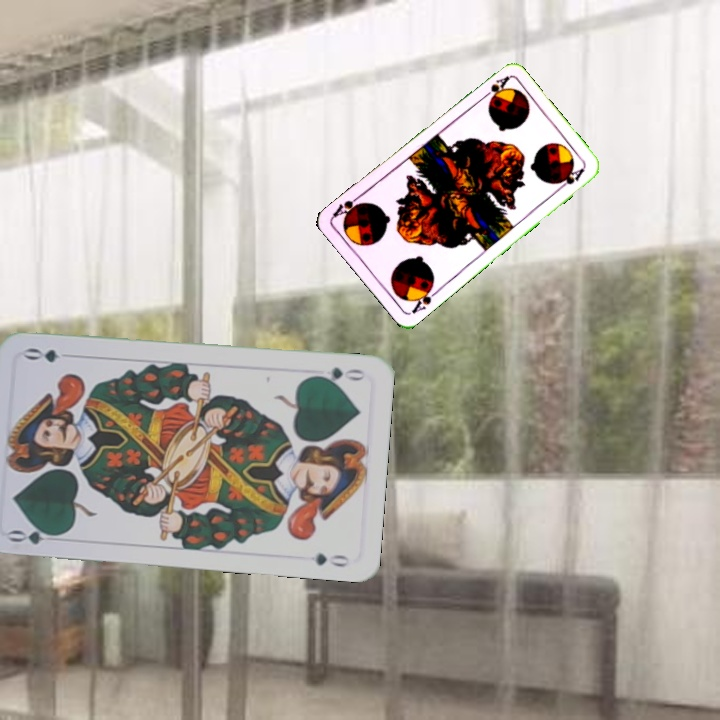GO: (5, 522, 65, 547), (309, 363, 368, 386)
SA: (407, 280, 442, 316), (477, 72, 512, 103)
